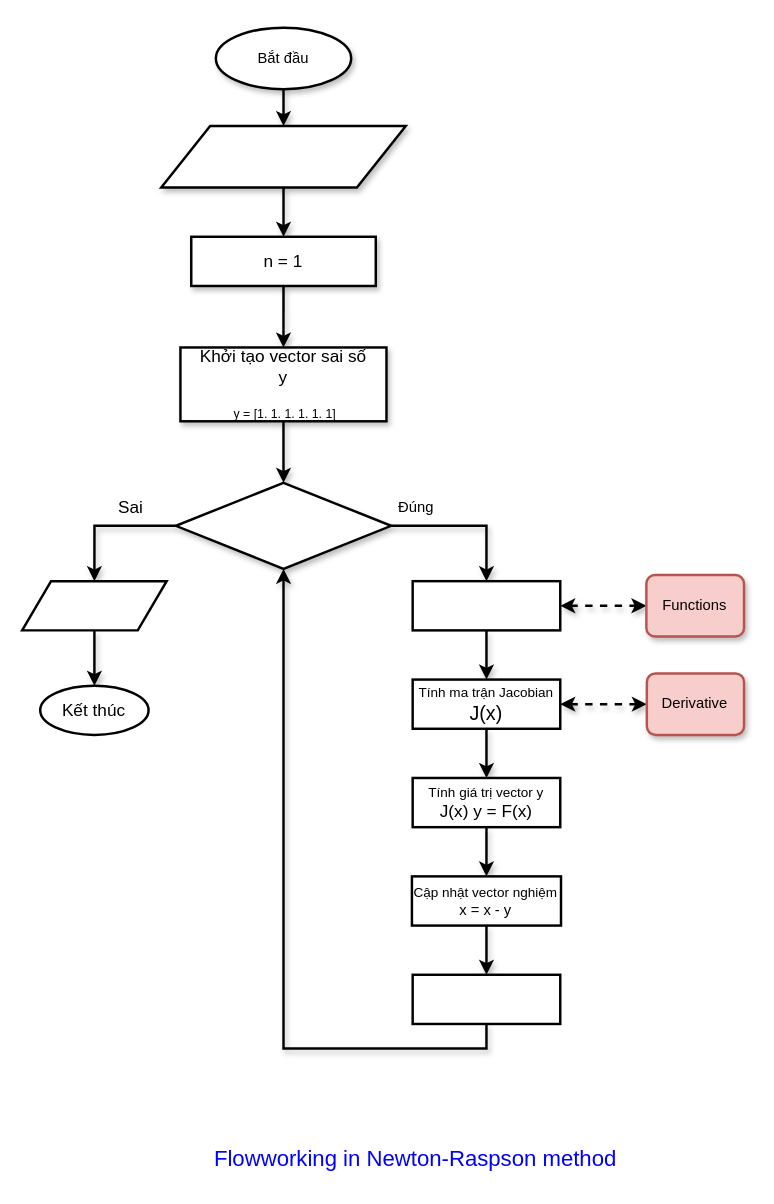
The diagram is 774 pixels wide and 1204 high, and some of its shapes have lost their labels. The centre of each missing label's shape, as x and y in pixels:
n = n + 1: point (486, 999)
Return x, n, y: point (93, 605)
Tính giá trị hàm số F(x): point (486, 605)
x: nghiệm khởi tạo epxilon : sai số N: số lượng vòng lặp: point (284, 158)
||y|| > epxilon and n <= N: point (284, 527)
